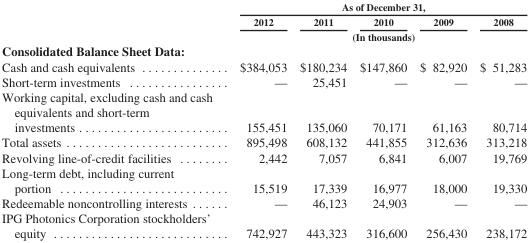table: (1, 0, 526, 240)
table column: (1, 0, 225, 240), (225, 0, 292, 240), (292, 0, 352, 240), (352, 0, 412, 240), (412, 0, 472, 240), (472, 0, 526, 240)
table column header: (1, 0, 526, 43)
table projected row header: (1, 43, 526, 58)
table row: (1, 89, 526, 134), (1, 164, 526, 195), (1, 210, 526, 240), (1, 13, 526, 29), (1, 73, 526, 89), (1, 43, 526, 58), (1, 58, 526, 73), (1, 134, 526, 149), (1, 149, 526, 164), (1, 195, 526, 210), (1, 29, 526, 43), (1, 0, 526, 13)
table spanning cell: (225, 29, 526, 43), (225, 0, 526, 13)
